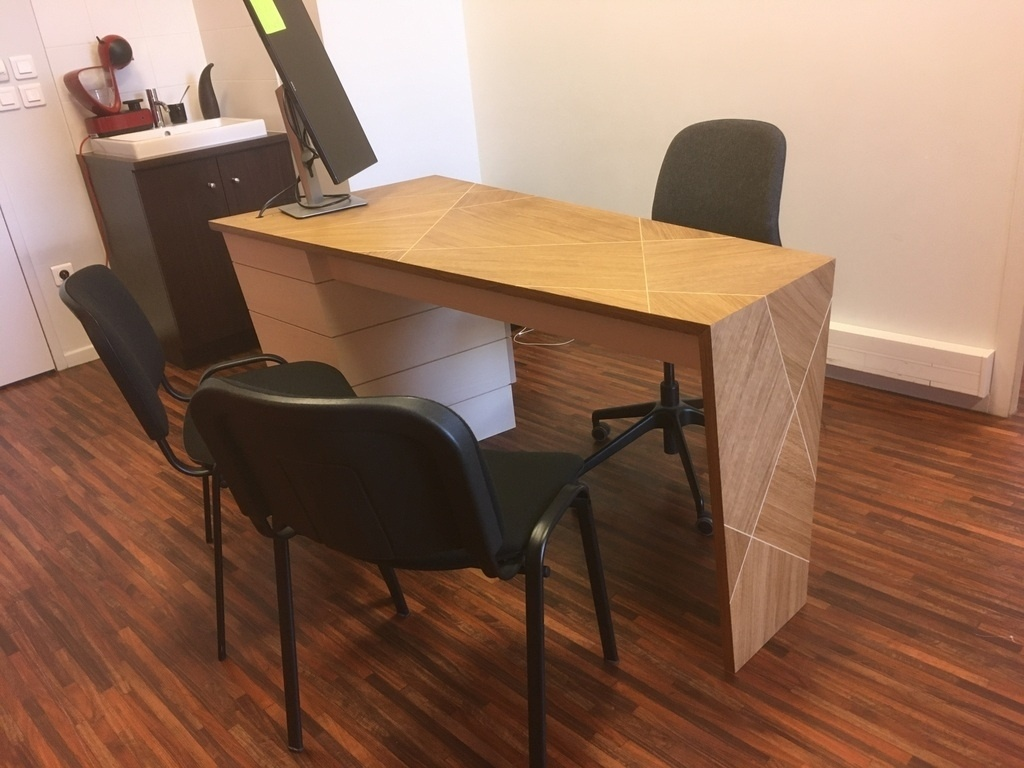Table: (628, 415, 927, 543)
